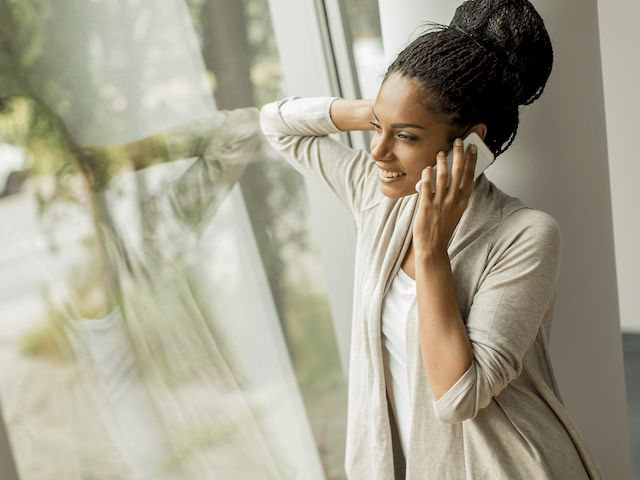phone: (424, 146, 492, 192)
talk: (368, 110, 496, 250)
